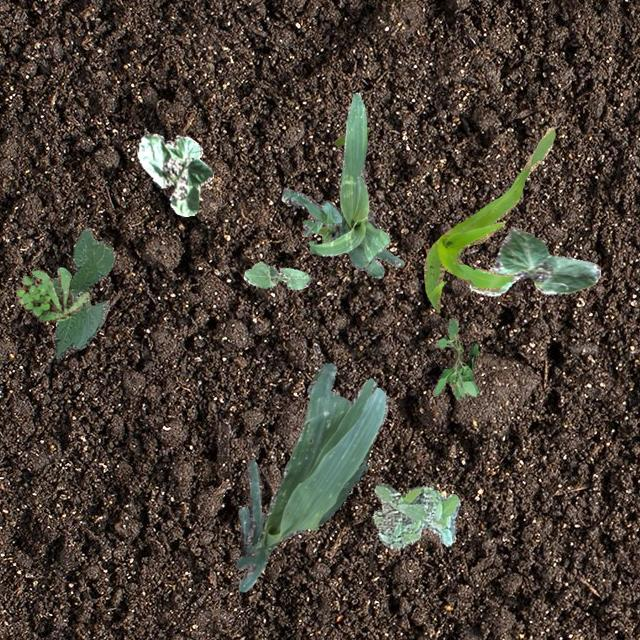crop: (234, 362, 386, 590), (424, 126, 554, 310), (302, 92, 388, 270), (281, 186, 404, 278), (468, 226, 600, 294), (50, 226, 114, 358), (136, 132, 212, 216), (242, 260, 310, 288)
weed: (372, 482, 458, 548), (15, 266, 90, 321), (432, 316, 478, 398), (334, 134, 344, 144)
